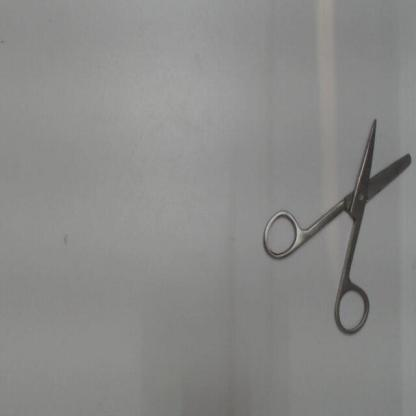Dressing Scissors: (255, 103, 415, 343)
